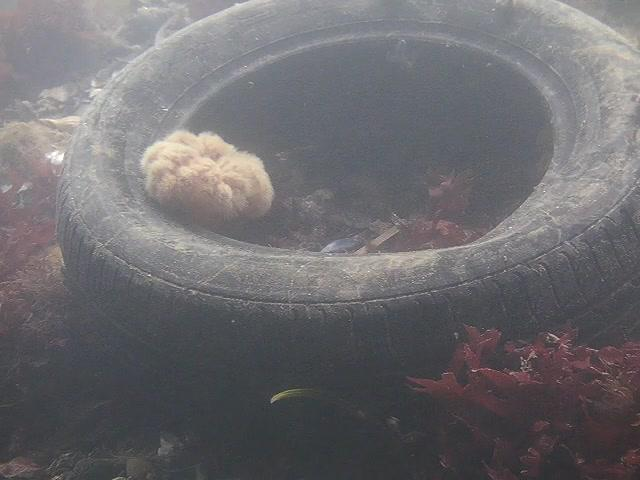tire: (54, 0, 640, 411)
